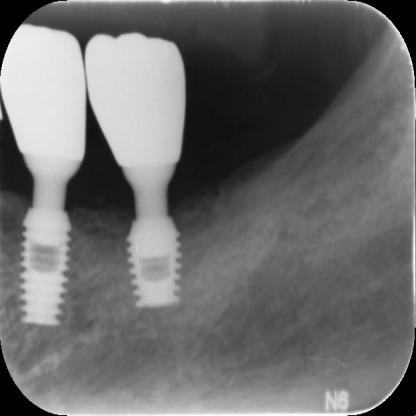Bicon: (16, 201, 72, 332), (124, 212, 188, 315)
